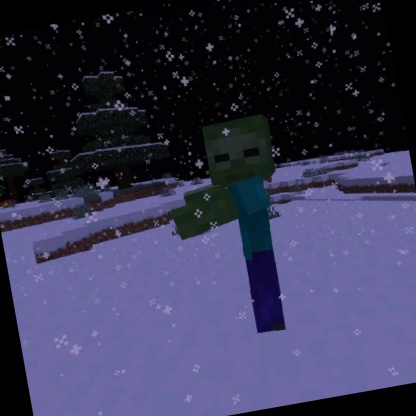zombie: (151, 106, 312, 352)
